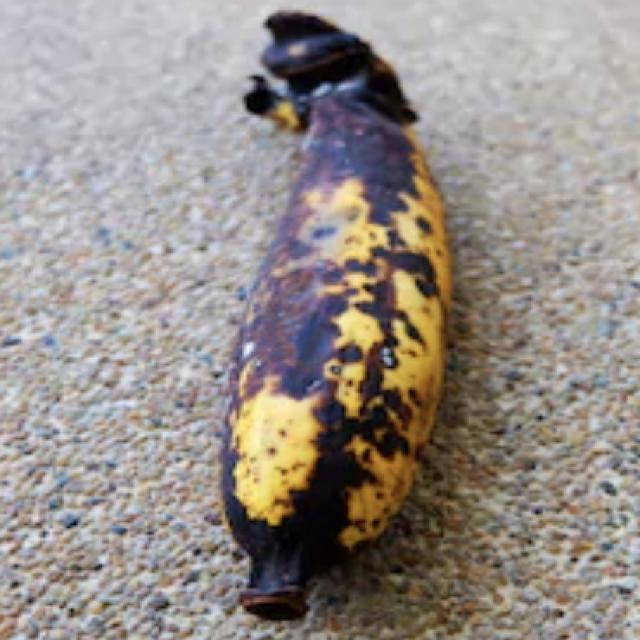rotten-banana: (225, 98, 458, 564)
